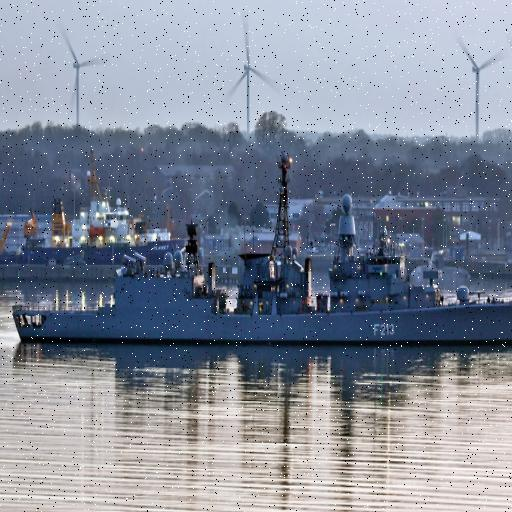Fragata: (12, 144, 512, 345)
